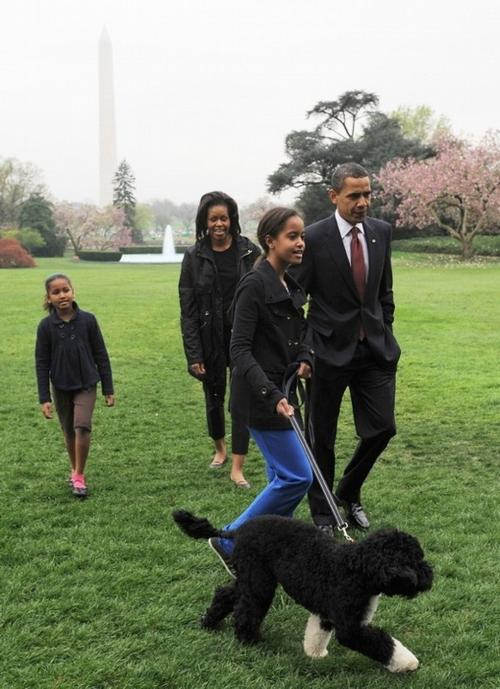person: (207, 209, 313, 587)
